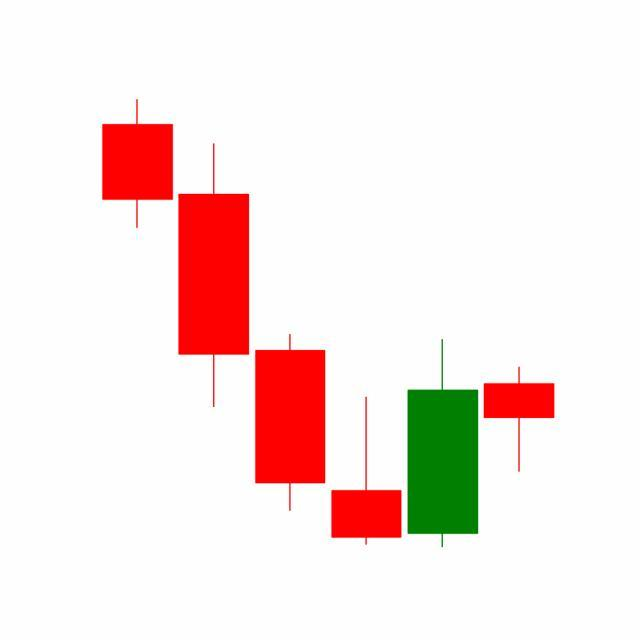Upside-Downside Gap Three Methods: (252, 331, 482, 549)
